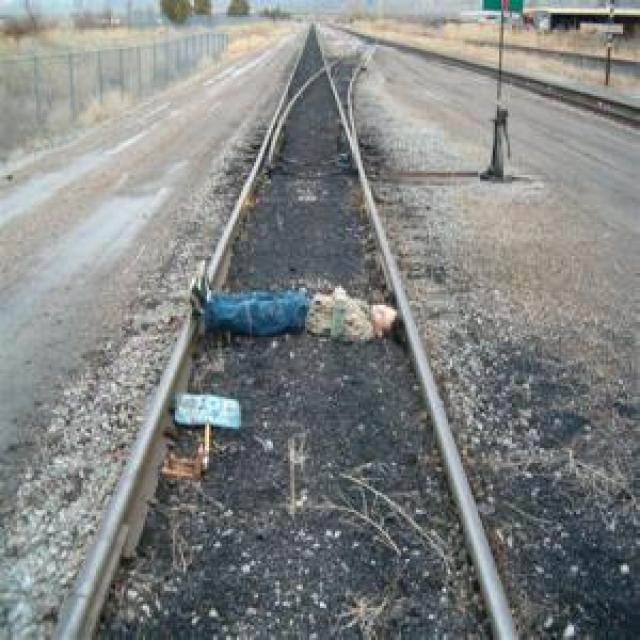danger: (187, 254, 404, 350)
rail: (25, 341, 532, 640), (186, 15, 423, 302), (336, 24, 640, 133)
